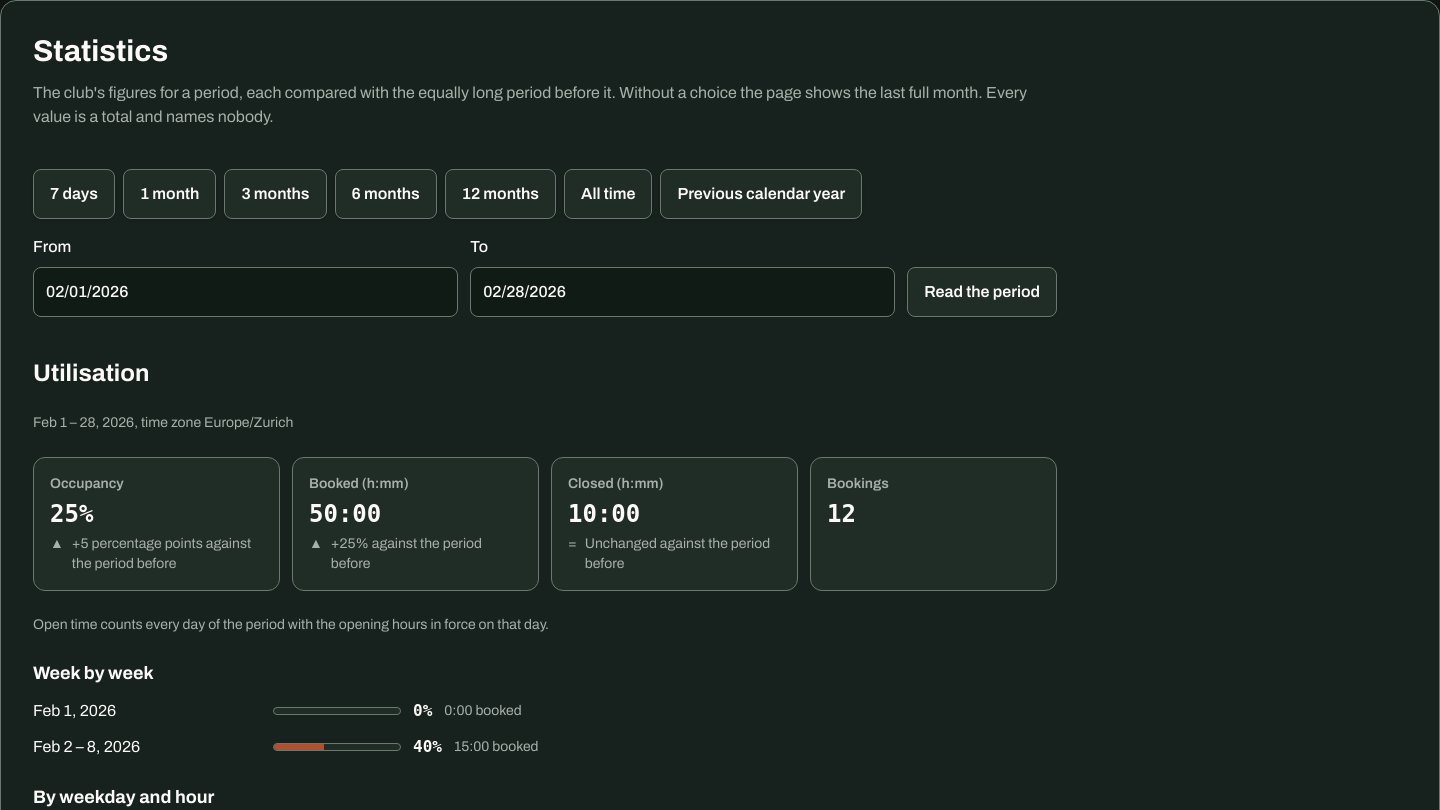
it: AdminStatisticsView › given a club without any booking, when all time is chosen, then the page says so and asks nothing
Check: the button with test id "statistics-choice-1m" is enabled, box top-left (123, 169), bottom-right (216, 219)
Click the button with test id "statistics-choice-all": (608, 194) top-left (564, 169), bottom-right (652, 219)
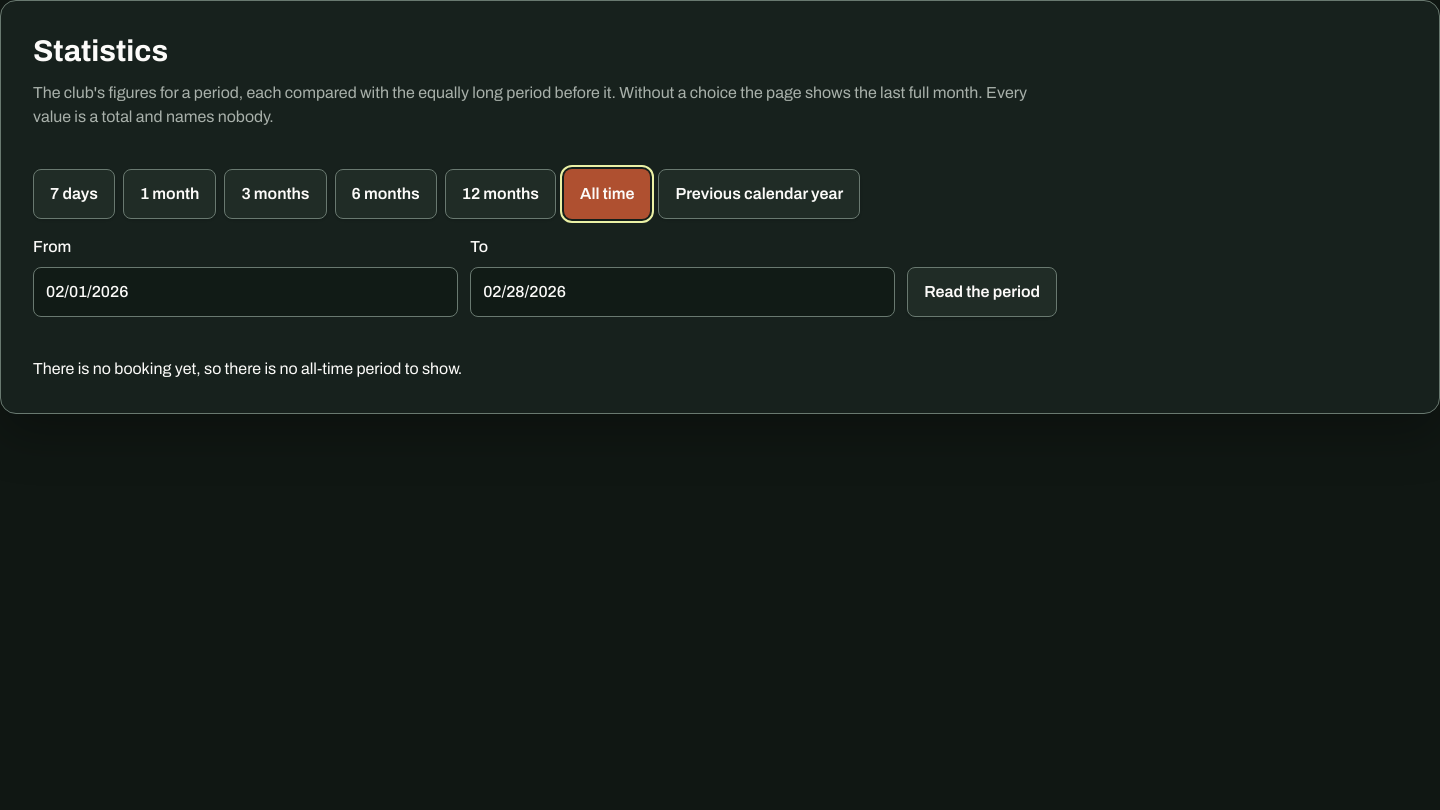
Check: the text with test id "statistics-no-bookings" shows "There is no booking yet", box top-left (33, 360), bottom-right (462, 377)
